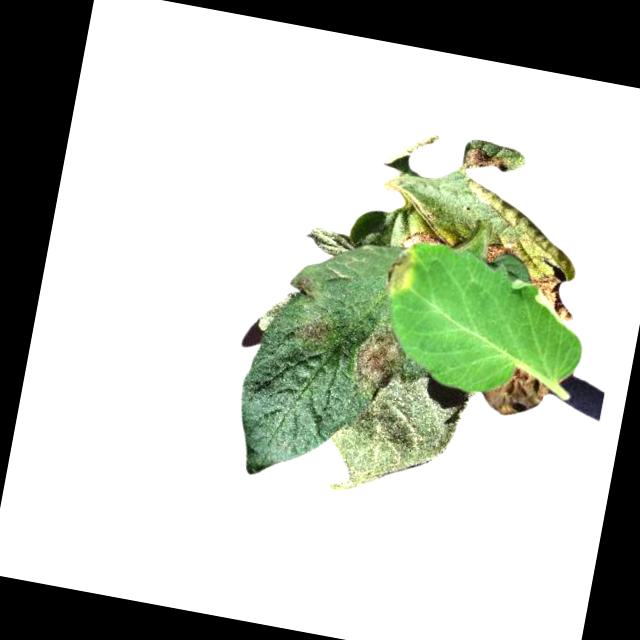Late_blight: (478, 360, 556, 424), (352, 325, 404, 396), (522, 270, 580, 323), (384, 244, 420, 299), (291, 311, 339, 352), (463, 143, 510, 176), (401, 228, 446, 252), (483, 242, 516, 267), (293, 276, 317, 302)
